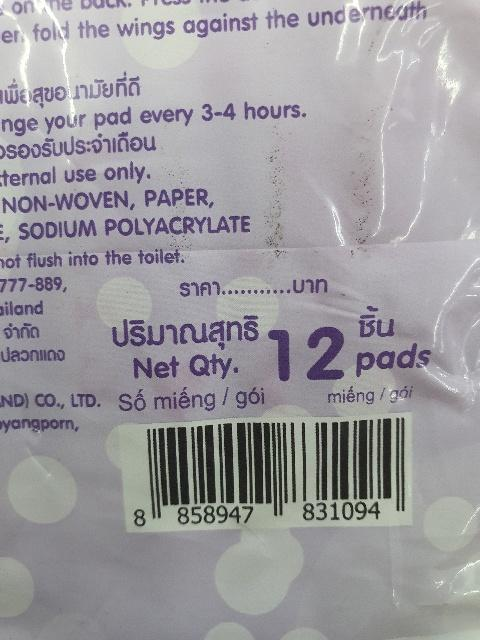Barcode: (127, 415, 412, 529)
